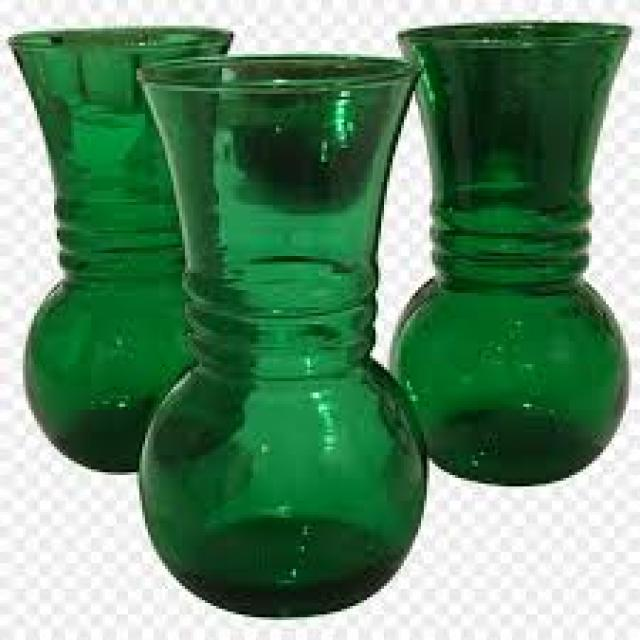Glass: (129, 46, 431, 624), (382, 17, 635, 493), (2, 23, 259, 483)
